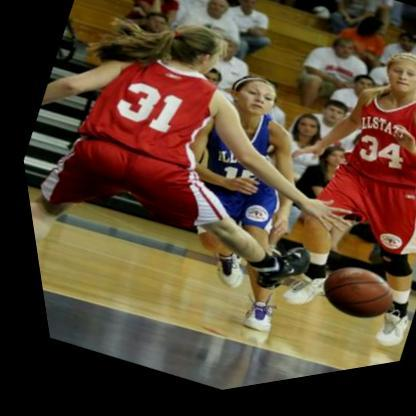basketball: (301, 261, 394, 345)
